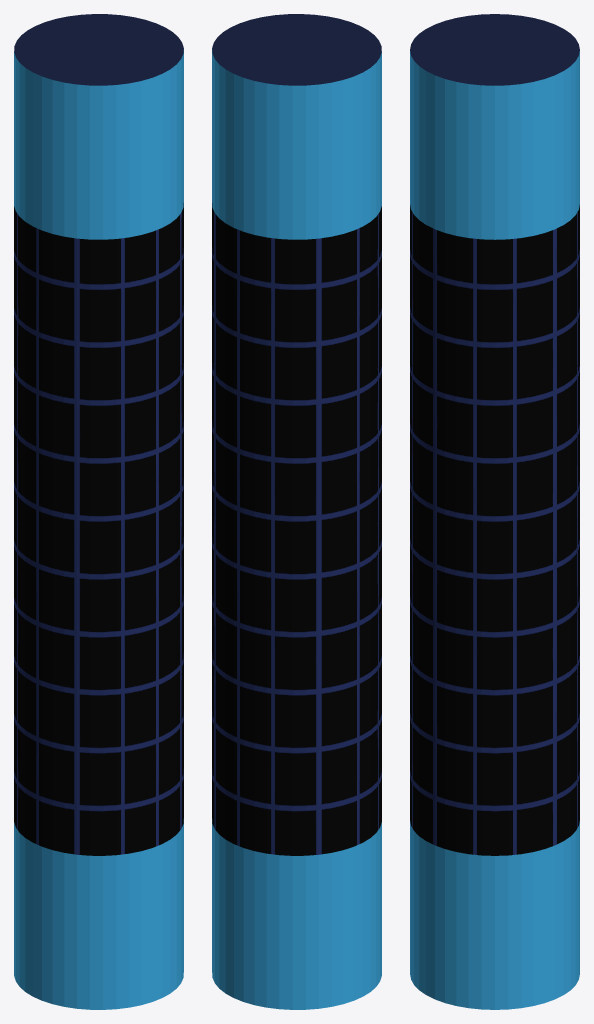
Rendered from wall_center_bevel_4.glb.
The picture shows the model from 3 angles, left to right: view 1: azimuth 30°, elevation 25°; view 2: azimuth 150°, elevation 25°; view 3: azimuth 270°, elevation 25°; orthographic projection.
Visible parts, largest first — view 1: WallCenterBevel4; view 2: WallCenterBevel4; view 3: WallCenterBevel4.
Part boxes in pixels (left/top/right/bottom): WallCenterBevel4: left=14, top=14, right=183, bottom=1009; WallCenterBevel4: left=212, top=14, right=381, bottom=1009; WallCenterBevel4: left=410, top=14, right=579, bottom=1009.
Size of the model in its own units: 0.5 by 3 by 0.5.
3 materials, 1 textured.
